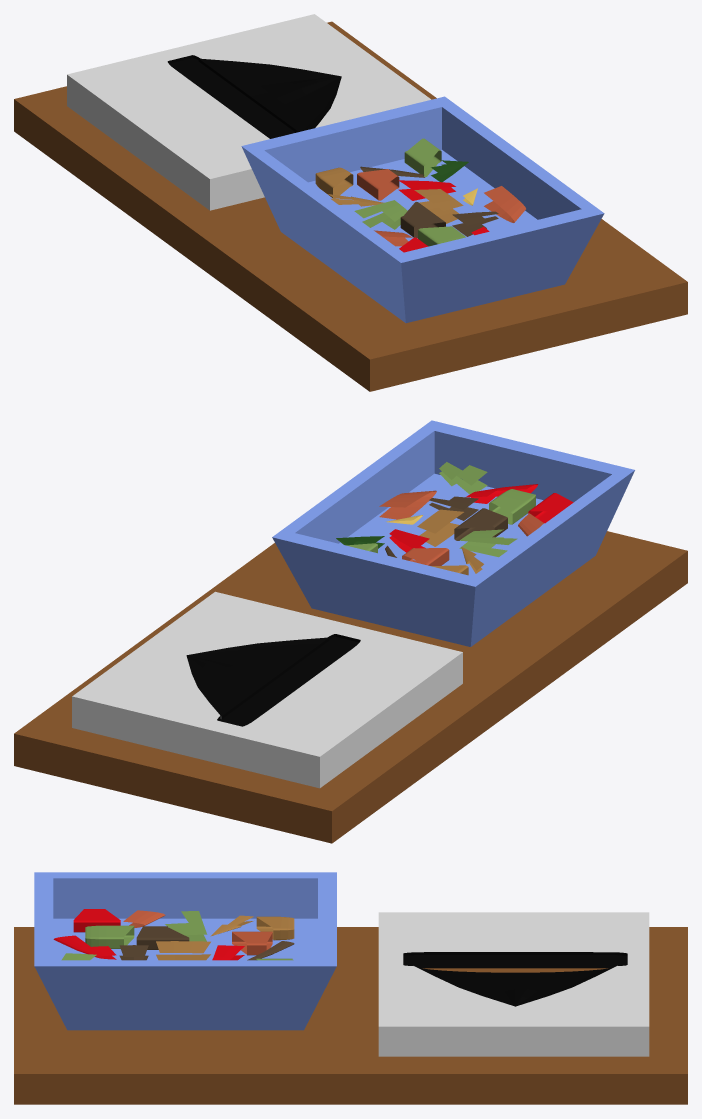
The model's file is kertas_tipe2.fbx.
The picture shows the model from 3 angles, top to bottom: view 1: azimuth 30°, elevation 25°; view 2: azimuth 150°, elevation 25°; view 3: azimuth 270°, elevation 25°; orthographic projection. The views are drawn at different scales.
Visible parts, largest first — view 1: Cube.023, Cube.025, Cube.024, Roundcube.032, Roundcube.034, Roundcube.027, Roundcube.026, Roundcube.023, Roundcube.033, Roundcube.035, Roundcube.030, Roundcube.024 (+1 smaller); view 2: Cube.023, Cube.024, Cube.025, Roundcube.030, Roundcube.027, Roundcube.023, Roundcube.033, Roundcube.026, Roundcube.019, Roundcube.032, Roundcube.031, Roundcube.024; view 3: Cube.023, Cube.024, Cube.025, Roundcube.030, Roundcube.023, Roundcube.032, Roundcube.033, Roundcube.035, Roundcube.031, Roundcube.026, Roundcube.028, Roundcube.020 (+2 smaller).
Part boxes in pixels (<box>): Cube.023: <box>14,21,687,391</box>; Cube.025: <box>241,96,604,323</box>; Cube.024: <box>67,14,430,210</box>; Roundcube.032: <box>357,169,399,200</box>; Roundcube.034: <box>404,138,441,177</box>; Roundcube.027: <box>484,186,525,222</box>; Roundcube.026: <box>354,200,407,229</box>; Roundcube.023: <box>414,189,463,223</box>; Roundcube.033: <box>400,202,445,237</box>; Roundcube.035: <box>315,167,353,198</box>; Roundcube.030: <box>418,226,465,246</box>; Roundcube.024: <box>452,211,498,236</box>; Cube.023: <box>14,531,687,843</box>; Cube.024: <box>72,591,462,788</box>; Cube.025: <box>272,420,634,646</box>; Roundcube.030: <box>489,489,535,524</box>; Roundcube.027: <box>379,490,436,519</box>; Roundcube.023: <box>417,509,463,546</box>; Roundcube.033: <box>454,508,507,540</box>; Roundcube.026: <box>459,529,517,557</box>; Roundcube.019: <box>439,462,487,494</box>; Roundcube.032: <box>402,548,449,565</box>; Roundcube.031: <box>528,493,573,523</box>; Roundcube.024: <box>429,496,478,520</box>; Cube.023: <box>14,927,687,1104</box>; Cube.024: <box>378,912,649,1056</box>; Cube.025: <box>34,872,336,1030</box>; Roundcube.030: <box>85,925,134,948</box>; Roundcube.023: <box>156,941,210,960</box>; Roundcube.032: <box>232,931,272,955</box>; Roundcube.033: <box>136,926,189,949</box>; Roundcube.035: <box>256,916,294,940</box>; Roundcube.031: <box>73,909,120,932</box>; Roundcube.026: <box>165,911,207,941</box>; Roundcube.028: <box>53,935,116,959</box>; Roundcube.020: <box>123,910,165,927</box>.
Size of the model in its own units: 159 by 52.94 by 308.
